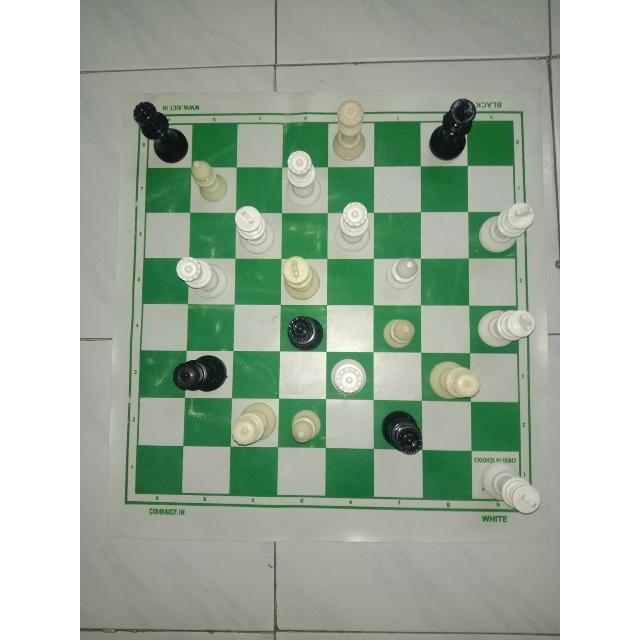black-king: (424, 98, 480, 166)
black-queen: (131, 98, 194, 170), (166, 354, 232, 398), (380, 404, 425, 461), (279, 311, 326, 355)
white-bishop: (184, 156, 232, 204), (379, 251, 423, 300), (280, 404, 322, 454), (375, 311, 420, 353)
white-king: (474, 460, 542, 518), (475, 303, 538, 353), (478, 197, 535, 251), (276, 254, 328, 306), (233, 201, 276, 253)
white-queen: (172, 251, 232, 300), (227, 398, 279, 453), (425, 355, 482, 401), (283, 146, 323, 208), (332, 196, 372, 257), (332, 99, 370, 161), (327, 358, 375, 406)
